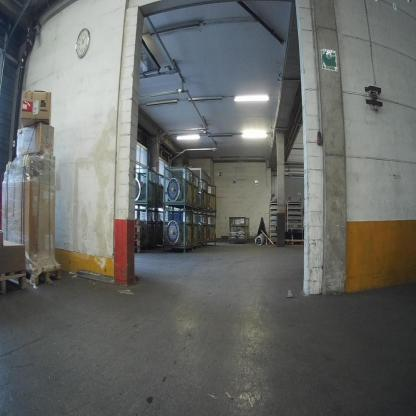pallet: (28, 258, 66, 290), (2, 269, 29, 297), (133, 216, 141, 224), (133, 233, 141, 241), (134, 223, 141, 232), (135, 246, 141, 256), (134, 241, 141, 246)
stillage: (160, 164, 193, 209), (160, 209, 193, 253), (225, 213, 251, 246), (157, 173, 174, 210), (135, 163, 149, 201), (135, 210, 149, 247), (149, 210, 163, 246), (198, 210, 210, 248), (146, 168, 156, 208), (207, 180, 218, 213), (208, 213, 218, 246), (199, 178, 208, 212), (192, 212, 199, 252), (193, 172, 200, 210)
